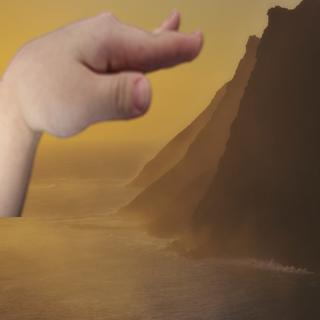Wait: (3, 1, 214, 145)
